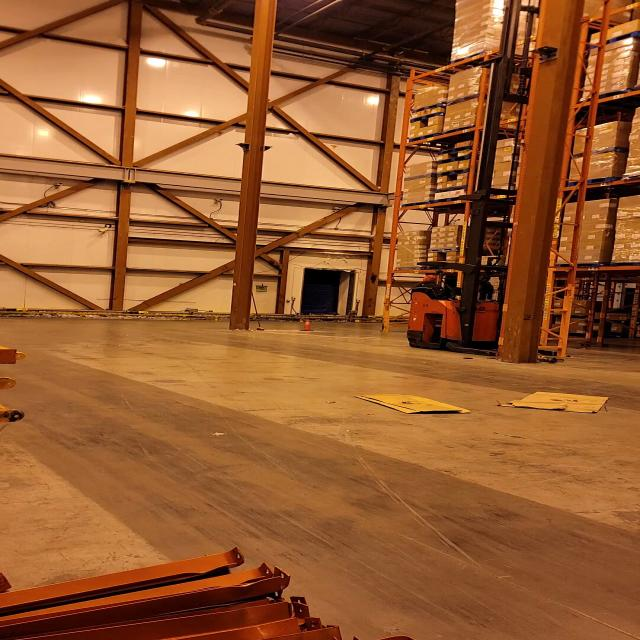forklift: (403, 190, 584, 366)
human: (405, 274, 453, 303)
objectofinterest: (501, 26, 591, 361), (348, 392, 477, 416), (495, 389, 616, 412)
